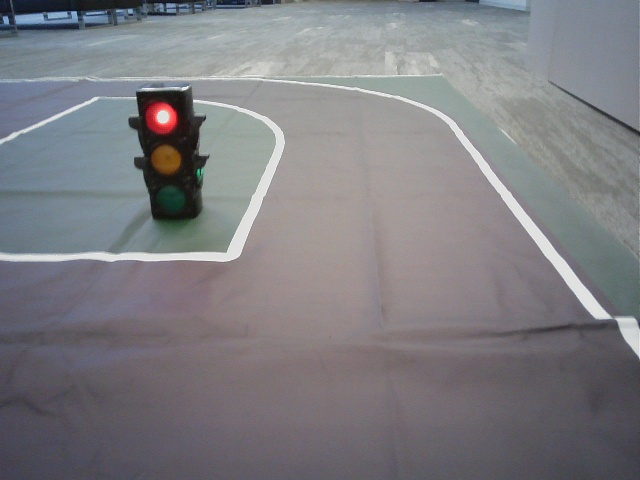red: (145, 94, 190, 215)
